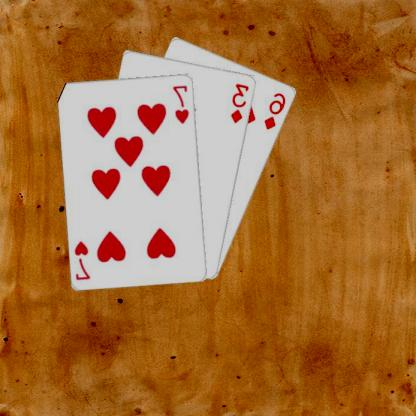3D: (230, 80, 252, 125)
6D: (263, 90, 289, 131)
7H: (172, 82, 192, 125), (74, 238, 94, 281)
